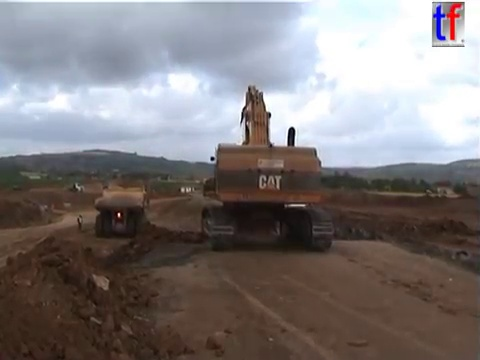excavator: (197, 82, 336, 254)
truck: (92, 184, 151, 238), (200, 174, 225, 200), (66, 182, 85, 194)
worker: (75, 212, 86, 234)
